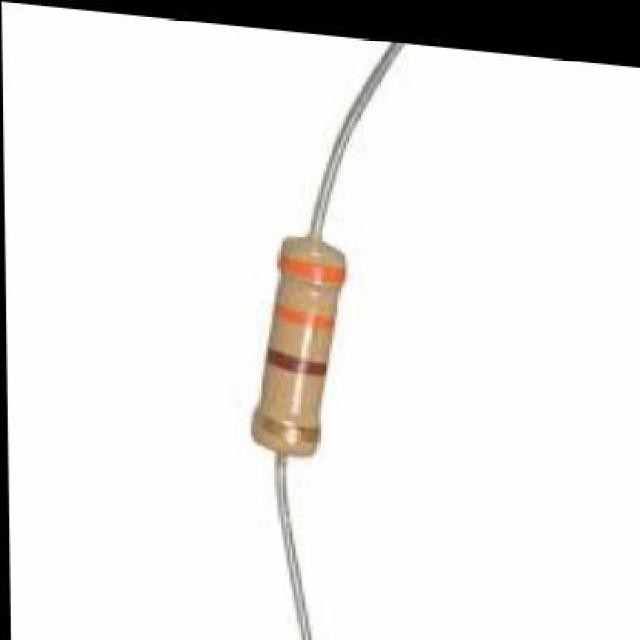Resistor: (252, 44, 401, 640)
